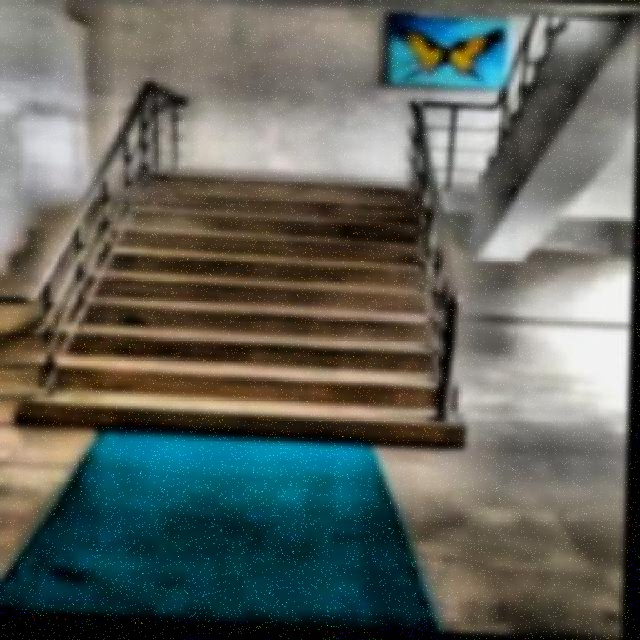stair: (25, 168, 472, 449)
